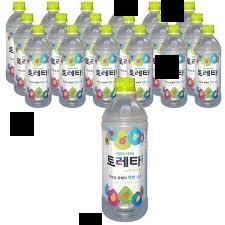toreta: (98, 75, 152, 219)
